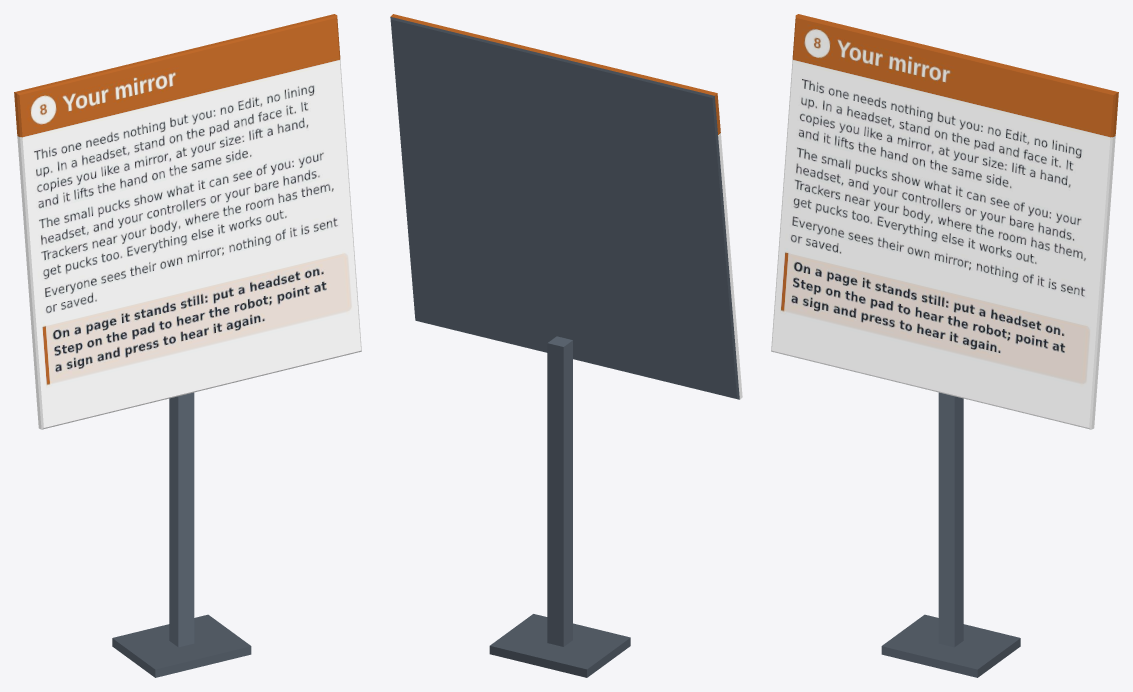
Rendered from 08-your-mirror.glb.
3 renders of one model, left to right at view 1: azimuth 30°, elevation 25°; view 2: azimuth 150°, elevation 25°; view 3: azimuth 330°, elevation 25°, orthographic.
Visible parts, largest first — view 1: board; view 2: board; view 3: board.
Part boxes in pixels (box(x1,y1,x2,y2)): board: box(14, 14, 361, 677); board: box(390, 14, 742, 677); board: box(771, 14, 1118, 677).
Size of the model in its own units: 1.2 by 2.12 by 0.28.
1 material, 1 textured.
